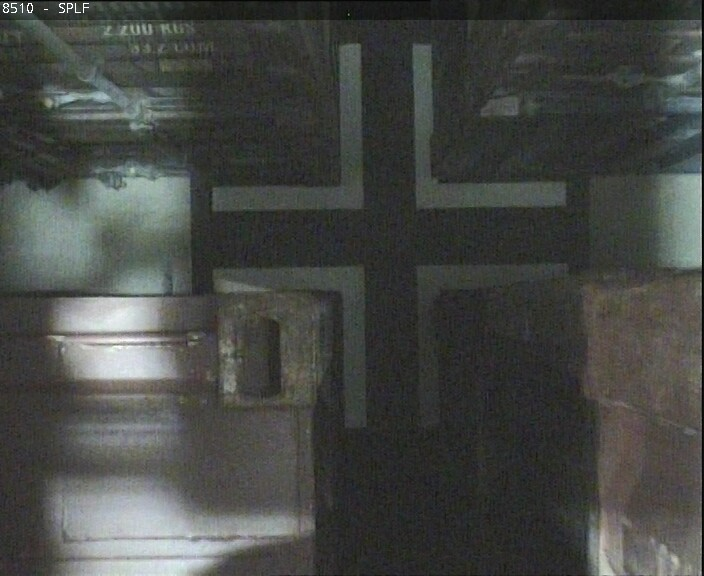groundmarker_1: (208, 258, 569, 426), (211, 42, 572, 210)
